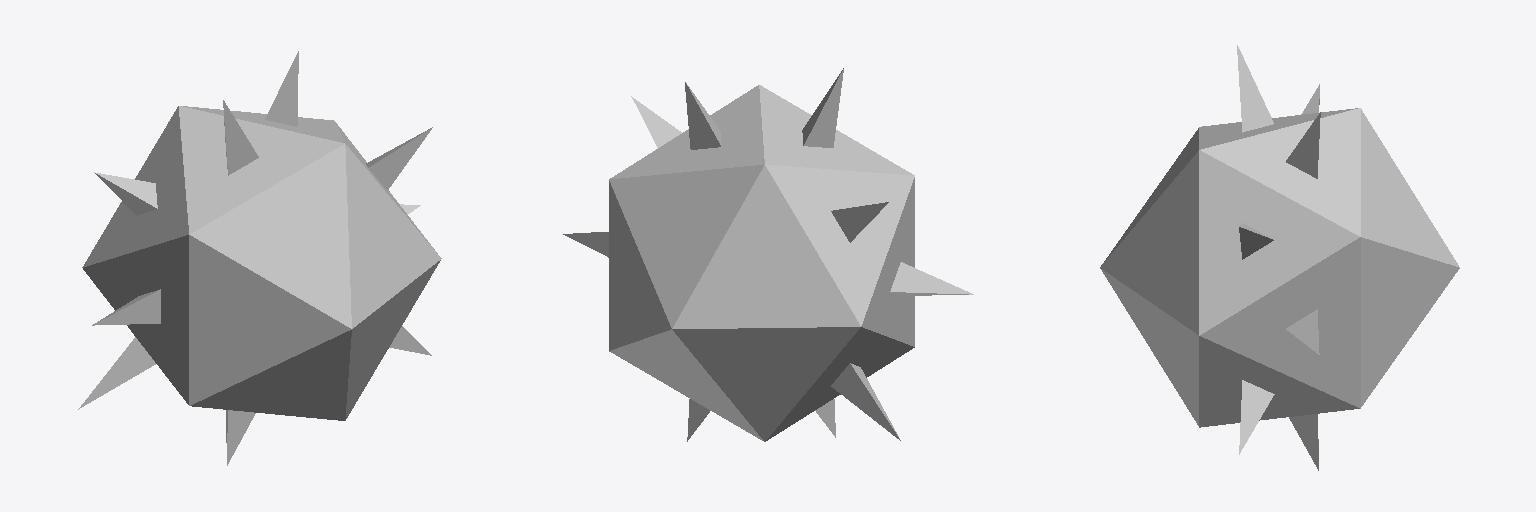
Rendered from Bomb.obj.
The picture shows the model from 3 angles: view 1: azimuth 30°, elevation 25°; view 2: azimuth 150°, elevation 25°; view 3: azimuth 270°, elevation 25°; orthographic projection.
Visible parts, largest first — view 1: Bomb_0; view 2: Bomb_0; view 3: Bomb_0.
Boxes of the visible parts, x1=… form: Bomb_0: x1=78, y1=51, x2=441, y2=465; Bomb_0: x1=563, y1=68, x2=973, y2=441; Bomb_0: x1=1100, y1=45, x2=1459, y2=470.
Size of the model in its own units: 0.6282 by 0.6027 by 0.528.